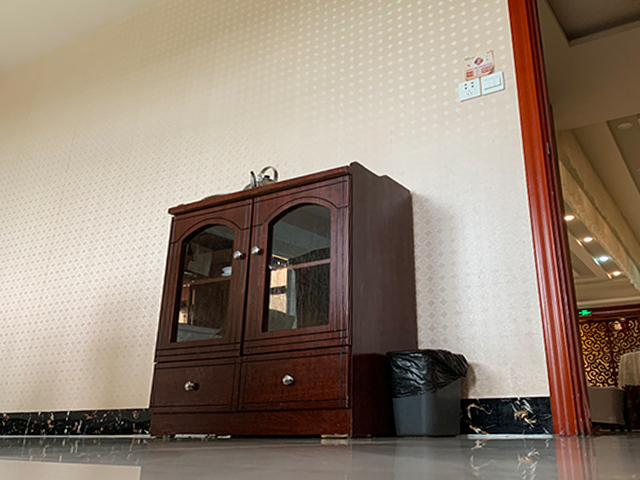cabinet: (145, 162, 419, 441)
trashcan: (382, 349, 471, 438)
